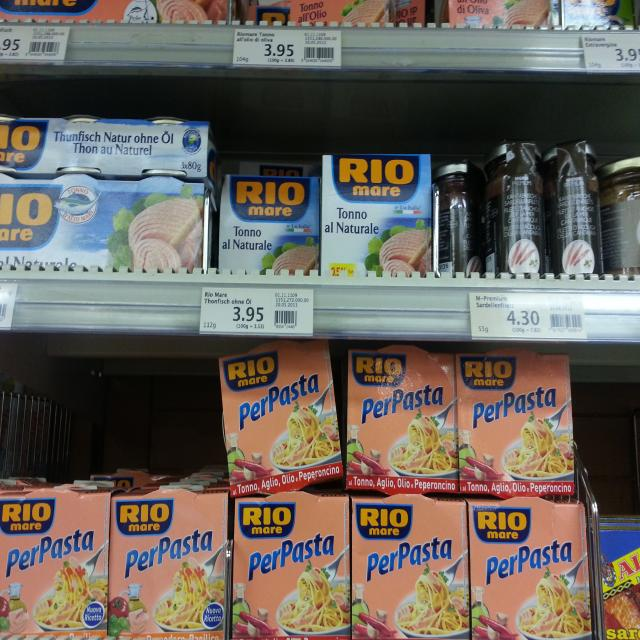Canned: (0, 170, 219, 271), (0, 116, 218, 188), (320, 152, 433, 276), (218, 175, 320, 274), (544, 135, 608, 280), (488, 143, 544, 280), (436, 161, 486, 271), (601, 152, 640, 283)
Pasta: (466, 486, 589, 640), (221, 342, 343, 496), (229, 496, 357, 640), (113, 486, 232, 640), (456, 344, 574, 496), (355, 492, 476, 640), (2, 479, 112, 640), (350, 345, 460, 492)
